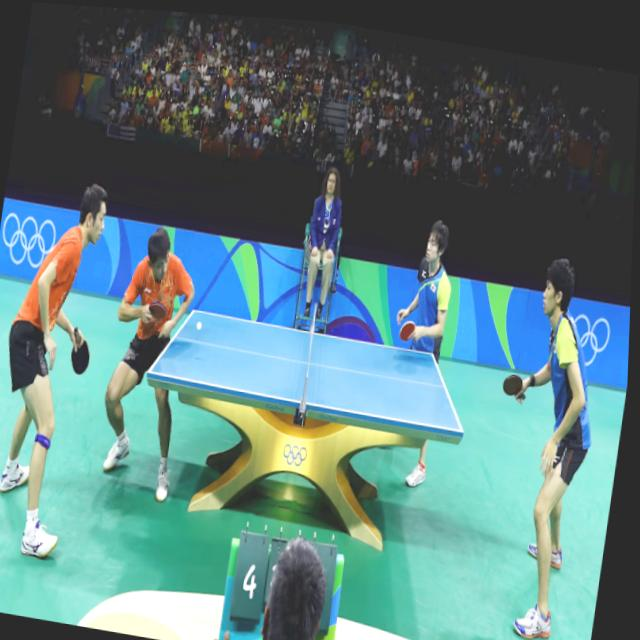TT Net: (298, 299, 318, 414)
TT Racket: (68, 333, 92, 384), (495, 368, 525, 400), (394, 313, 417, 344), (147, 299, 168, 322)
TT Table: (150, 309, 463, 431)
